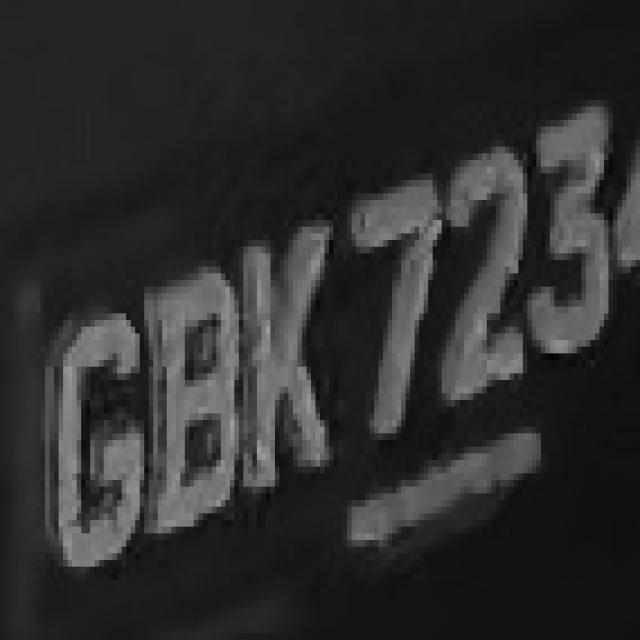2: (437, 120, 532, 440)
3: (523, 100, 626, 387)
7: (343, 167, 446, 453)
B: (144, 273, 252, 560)
G: (36, 287, 135, 593)
K: (230, 220, 351, 507)
